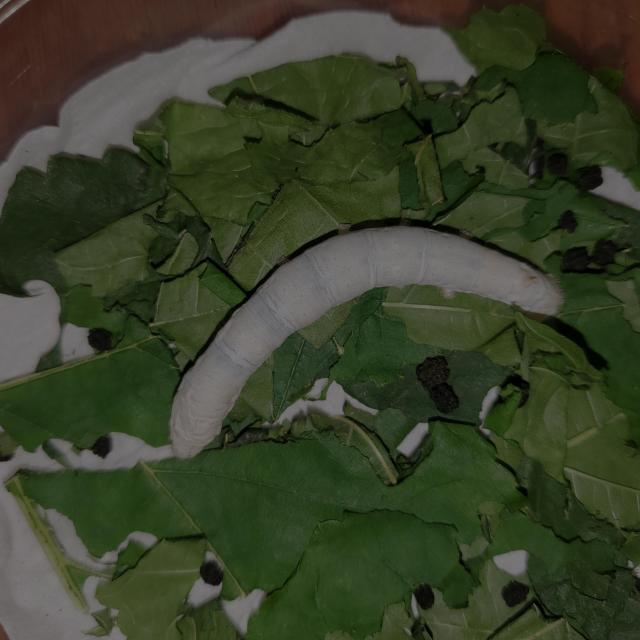Healthy: (149, 191, 580, 490)
